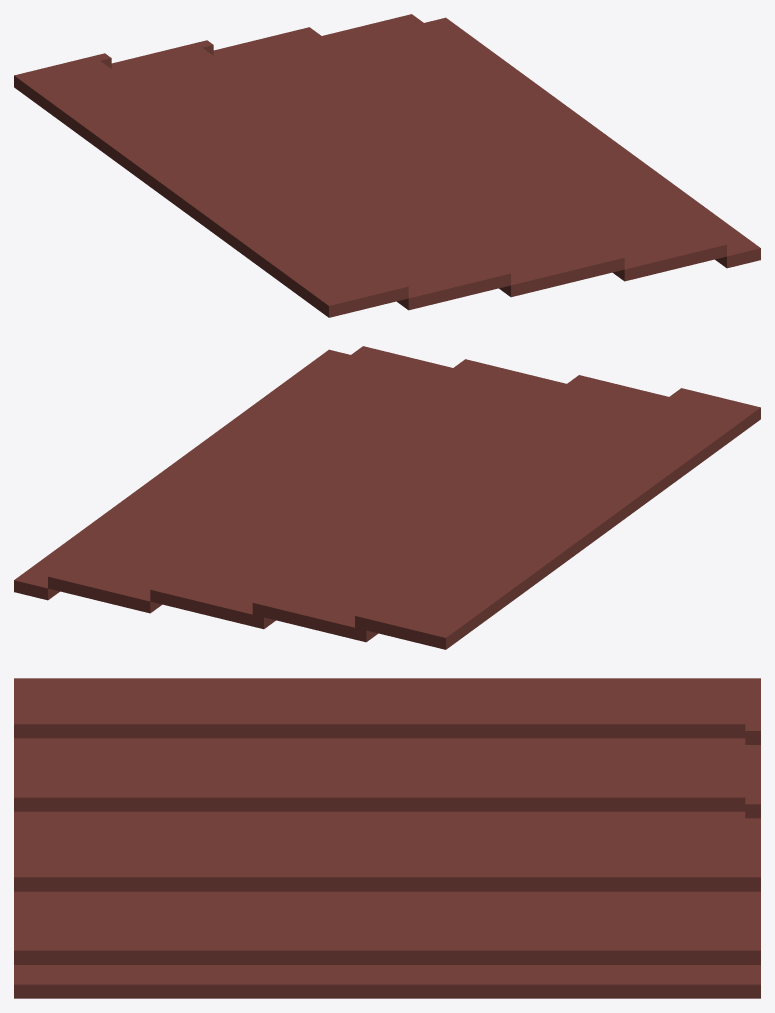
Rendered from hatchback_bonnet.glb.
The picture shows the model from 3 angles, top to bottom: view 1: azimuth 30°, elevation 25°; view 2: azimuth 150°, elevation 25°; view 3: azimuth 270°, elevation 25°; orthographic projection. The views are drawn at different scales.
Parts seen in each view (by area): view 1: body:compound; view 2: body:compound; view 3: body:compound.
Boxes of the visible parts, x1,y1,x2,y2 form: body:compound: (14, 14, 760, 317); body:compound: (14, 346, 760, 649); body:compound: (14, 678, 760, 998).
Size of the model in its own units: 1.19 by 0.1562 by 1.5.
